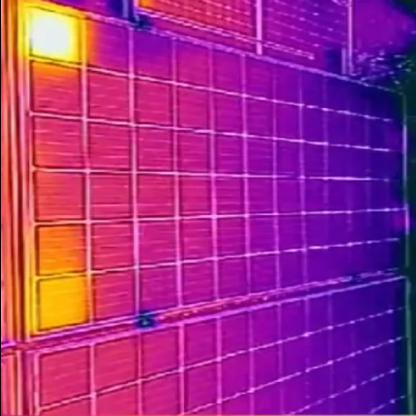Defects: (34, 20, 78, 58)
